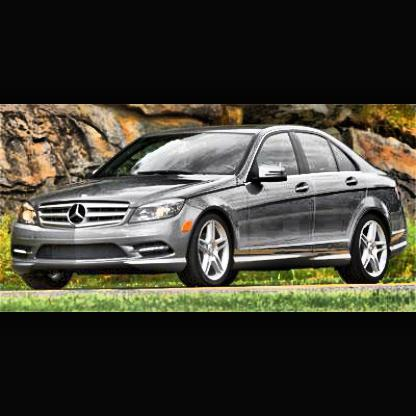Mercedes-Benz C-Class Sedan 2012: (12, 128, 410, 290)
